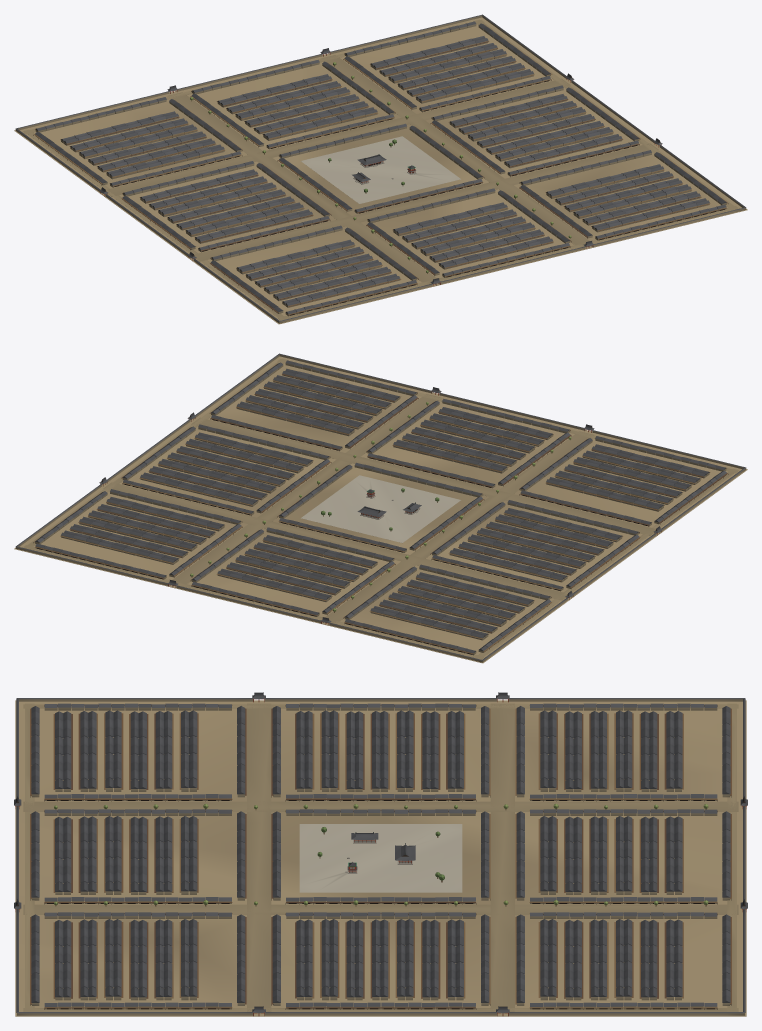
Rendered from east-market.glb.
3 views of the same model, one above another, from view 1: azimuth 30°, elevation 25°; view 2: azimuth 150°, elevation 25°; view 3: azimuth 270°, elevation 25° (orthographic). The views are drawn at different scales.
Parts seen in each view (by area): view 1: p1_halls, p0_walls, p2_trees; view 2: p1_halls, p0_walls, p2_trees; view 3: p0_walls, p1_halls, p2_trees.
Part boxes in pixels (<box>): p1_halls: <box>33,21,728,316</box>; p0_walls: <box>14,14,747,324</box>; p2_trees: <box>190,62,571,273</box>; p1_halls: <box>33,360,728,655</box>; p0_walls: <box>14,353,747,663</box>; p2_trees: <box>190,402,571,612</box>; p0_walls: <box>15,698,746,1016</box>; p1_halls: <box>14,692,747,1016</box>; p2_trees: <box>54,804,708,906</box>.
Bounding box in the file's own units: 923 × 14.45 × 903.
